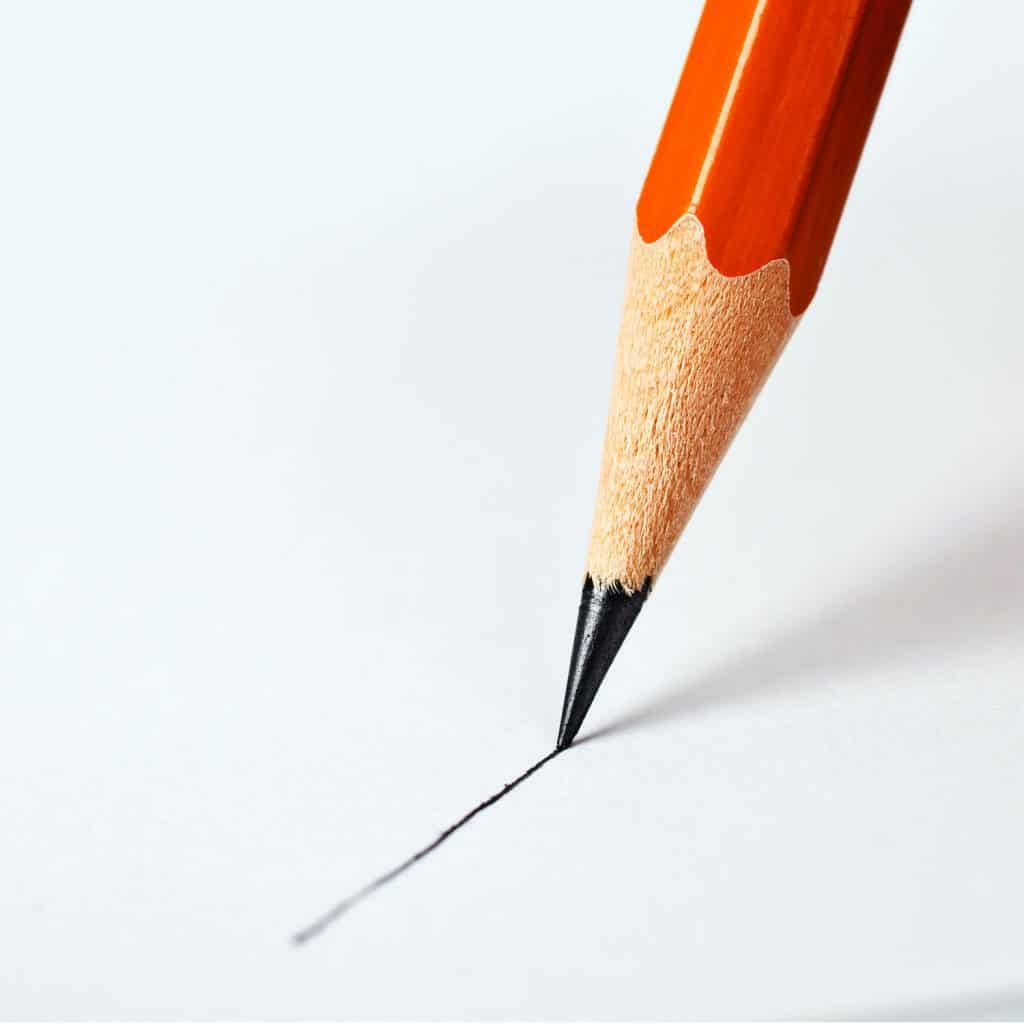pencil: (454, 4, 969, 757)
